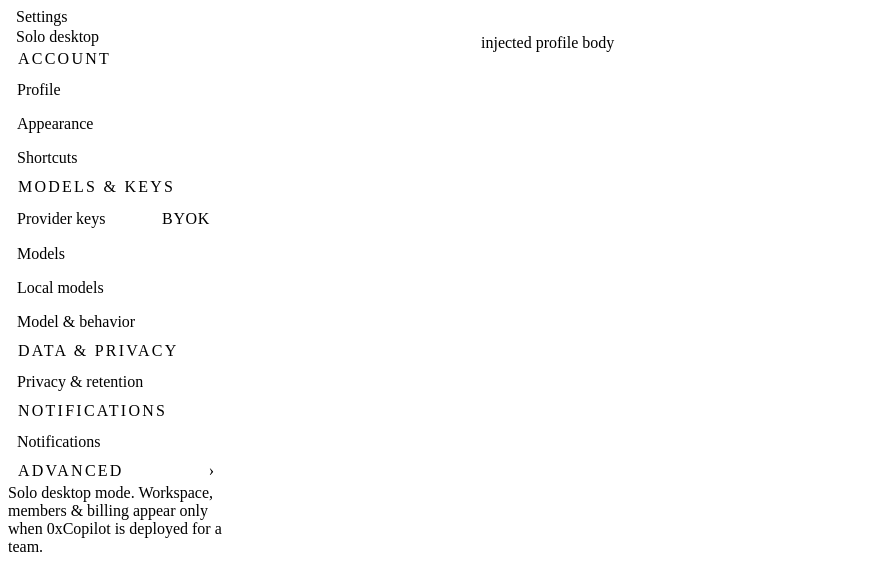
SettingsSurface — content router (FR-5.5) › renders the injected section body via the renderSection slot
Expected: the text "injected profile body" is shown, [481, 34, 614, 51]
Note: A slug with no injected body still shows the placeholder.
Click the tab "Shortcuts": coordinates (116, 158) [8, 142, 224, 174]
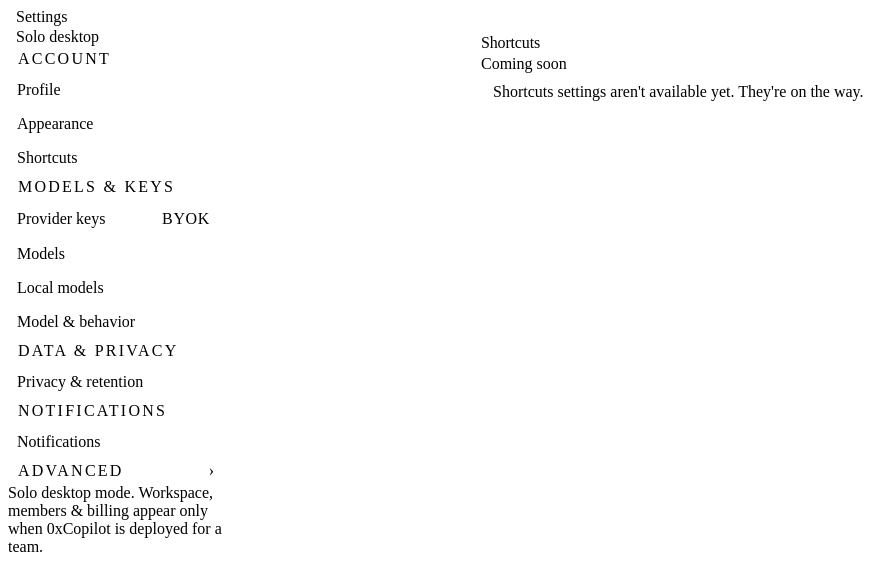
Expected: the element with test id "settings-placeholder-shortcuts" is shown, [481, 34, 864, 100]
